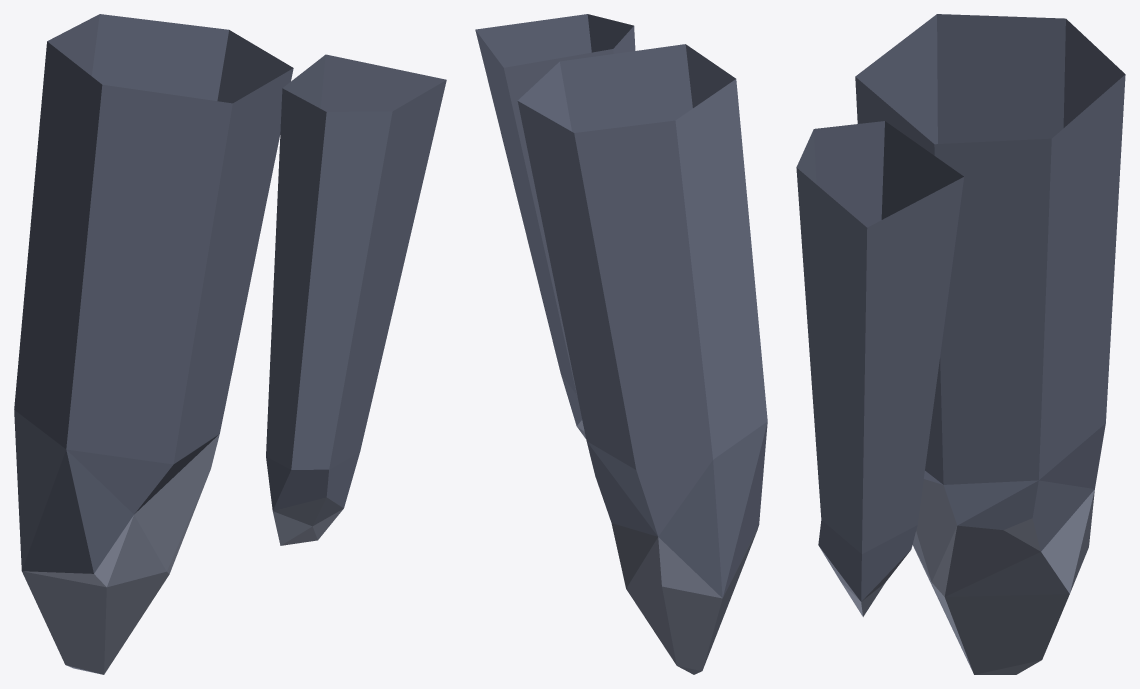
The model's file is Flora_Rocks_01 (3).fbx.
The picture shows the model from 3 angles, left to right: view 1: azimuth 30°, elevation 25°; view 2: azimuth 150°, elevation 25°; view 3: azimuth 270°, elevation 25°; orthographic projection. The views are drawn at different scales.
Visible parts, largest first — view 1: Color_01; view 2: Color_01; view 3: Color_01.
Part boxes in pixels (x1,y1,x2,y2): Color_01: (14,14,446,674); Color_01: (475,14,767,674); Color_01: (796,14,1125,674).
Bounding box in the file's own units: 11.77 × 19.88 × 9.03.
Materials: 1 (1 with a texture image).
